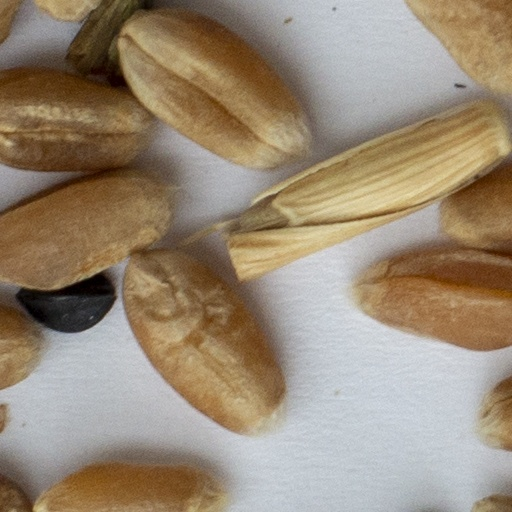Fallopia-Сonvolvulus-poly: (16, 275, 114, 331)
Peel-poly: (227, 100, 510, 277)
